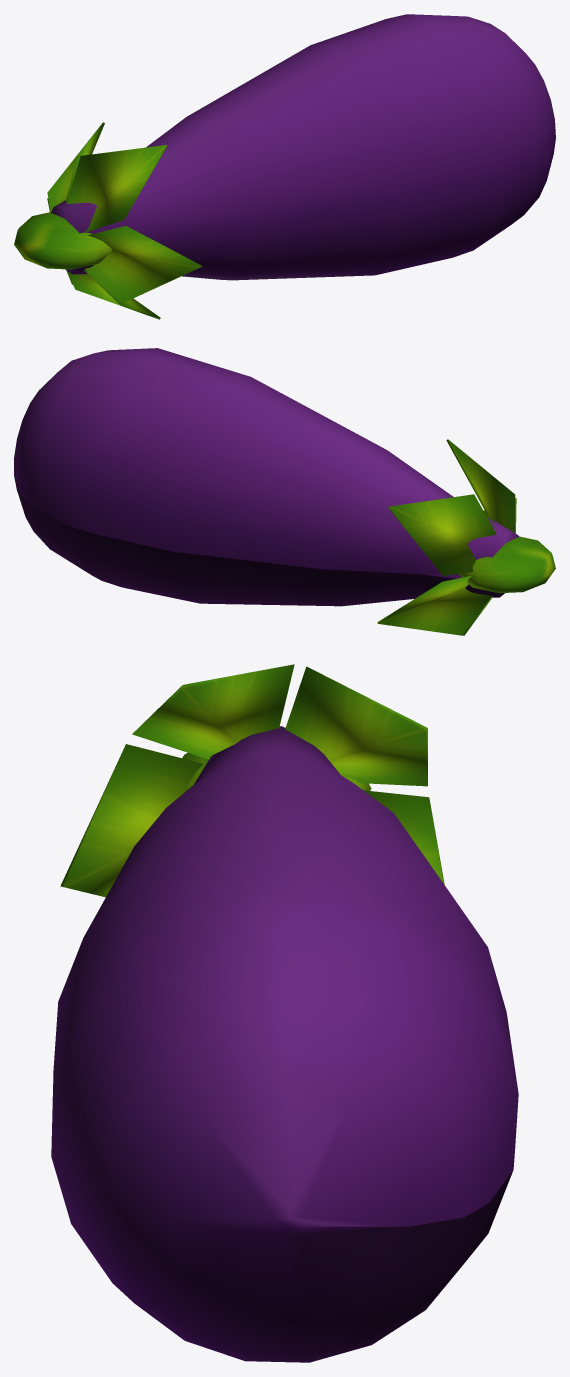
The model's file is NP_Eggplant_Harvest_LOD1.fbx.
3 views of the same model, one above another, from view 1: azimuth 30°, elevation 25°; view 2: azimuth 150°, elevation 25°; view 3: azimuth 270°, elevation 25° (orthographic). The views are drawn at different scales.
Parts seen in each view (by area): view 1: NP_Eggplant_Harvest; view 2: NP_Eggplant_Harvest; view 3: NP_Eggplant_Harvest.
Boxes of the visible parts, <box> form: NP_Eggplant_Harvest: <box>14,14,555,319</box>; NP_Eggplant_Harvest: <box>14,348,555,635</box>; NP_Eggplant_Harvest: <box>51,664,518,1362</box>.
Bounding box in the file's own units: 41.39 × 16.73 × 16.1.
